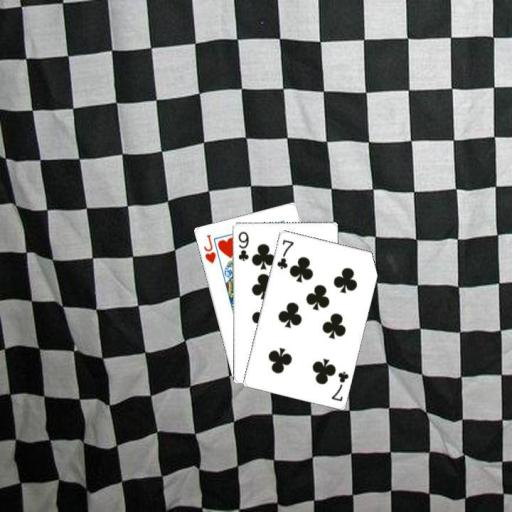7C: (328, 368, 350, 403), (274, 236, 295, 270)
9C: (235, 229, 250, 263)
JH: (200, 231, 217, 265)
